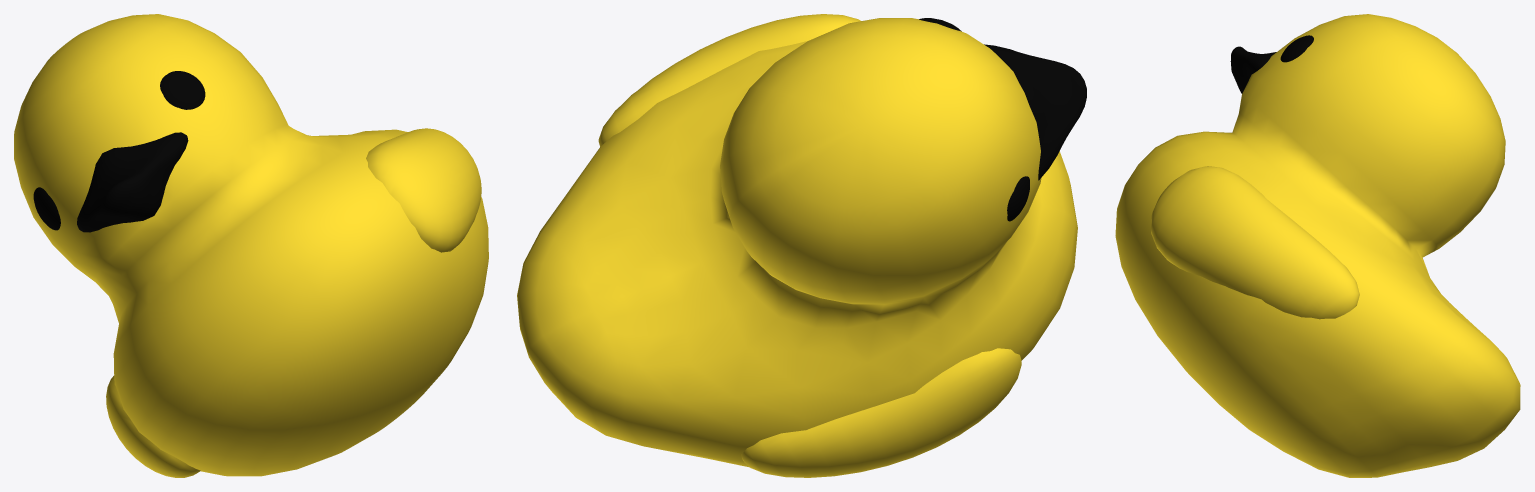
The model's file is ToyObject_163.fbx.
The picture shows the model from 3 angles, left to right: view 1: azimuth 30°, elevation 25°; view 2: azimuth 150°, elevation 25°; view 3: azimuth 270°, elevation 25°; orthographic projection. The views are drawn at different scales.
Visible parts, largest first — view 1: Object.032; view 2: Object.032; view 3: Object.032.
Part boxes in pixels (left/top/right/bottom): Object.032: left=14, top=14, right=488, bottom=477; Object.032: left=517, top=14, right=1086, bottom=477; Object.032: left=1115, top=14, right=1520, bottom=477.
Bounding box in the file's own units: 0.1131 × 0.1113 × 0.1083.
